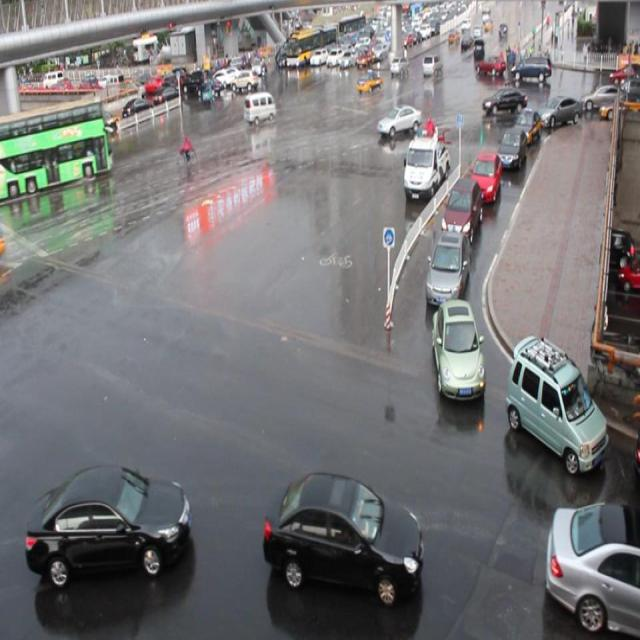bus: (400, 129, 450, 203)
car: (263, 469, 422, 601), (25, 462, 190, 578), (503, 327, 609, 472), (541, 496, 639, 640), (431, 297, 484, 401), (424, 228, 468, 304), (440, 175, 480, 240), (469, 150, 501, 202), (538, 94, 581, 129), (377, 103, 421, 135), (481, 86, 526, 115), (496, 127, 526, 168), (512, 107, 542, 143)
truck: (243, 92, 276, 121)
van: (1, 98, 112, 192)
